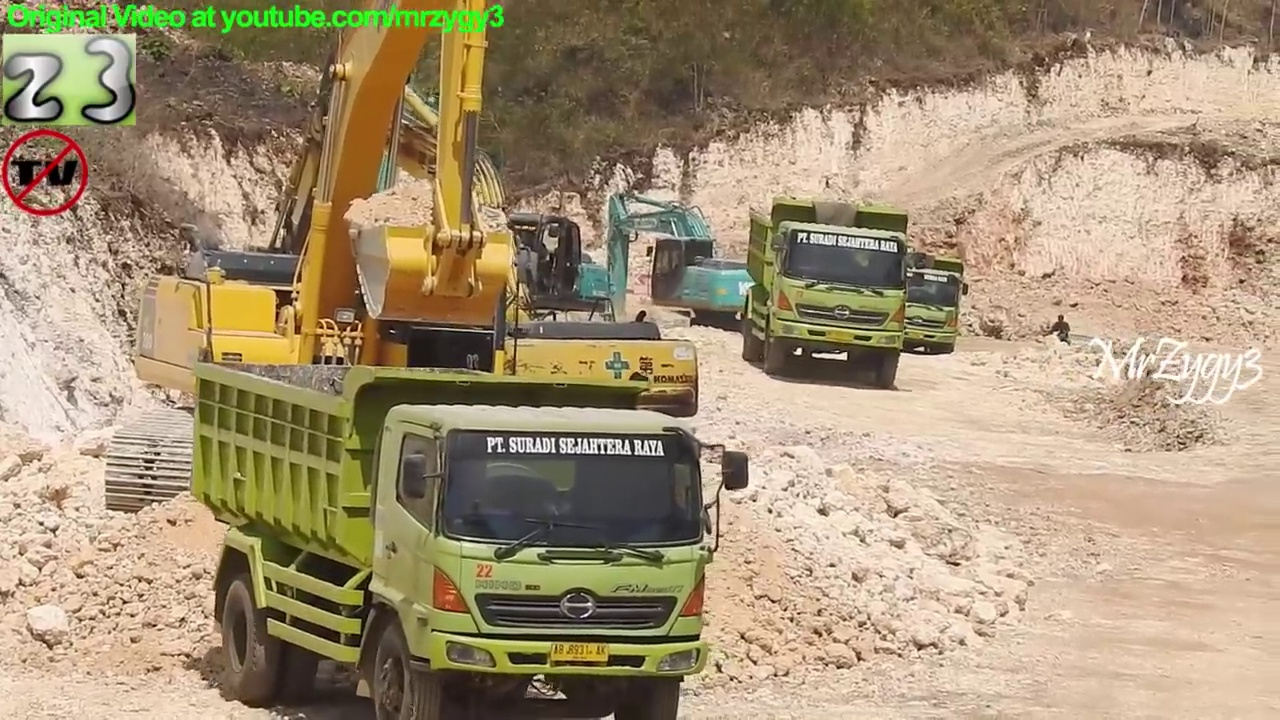excavator: (95, 1, 564, 524), (186, 37, 707, 467), (292, 31, 620, 348), (581, 190, 777, 340)
truck: (185, 354, 754, 720), (738, 192, 919, 383), (860, 245, 977, 359)
